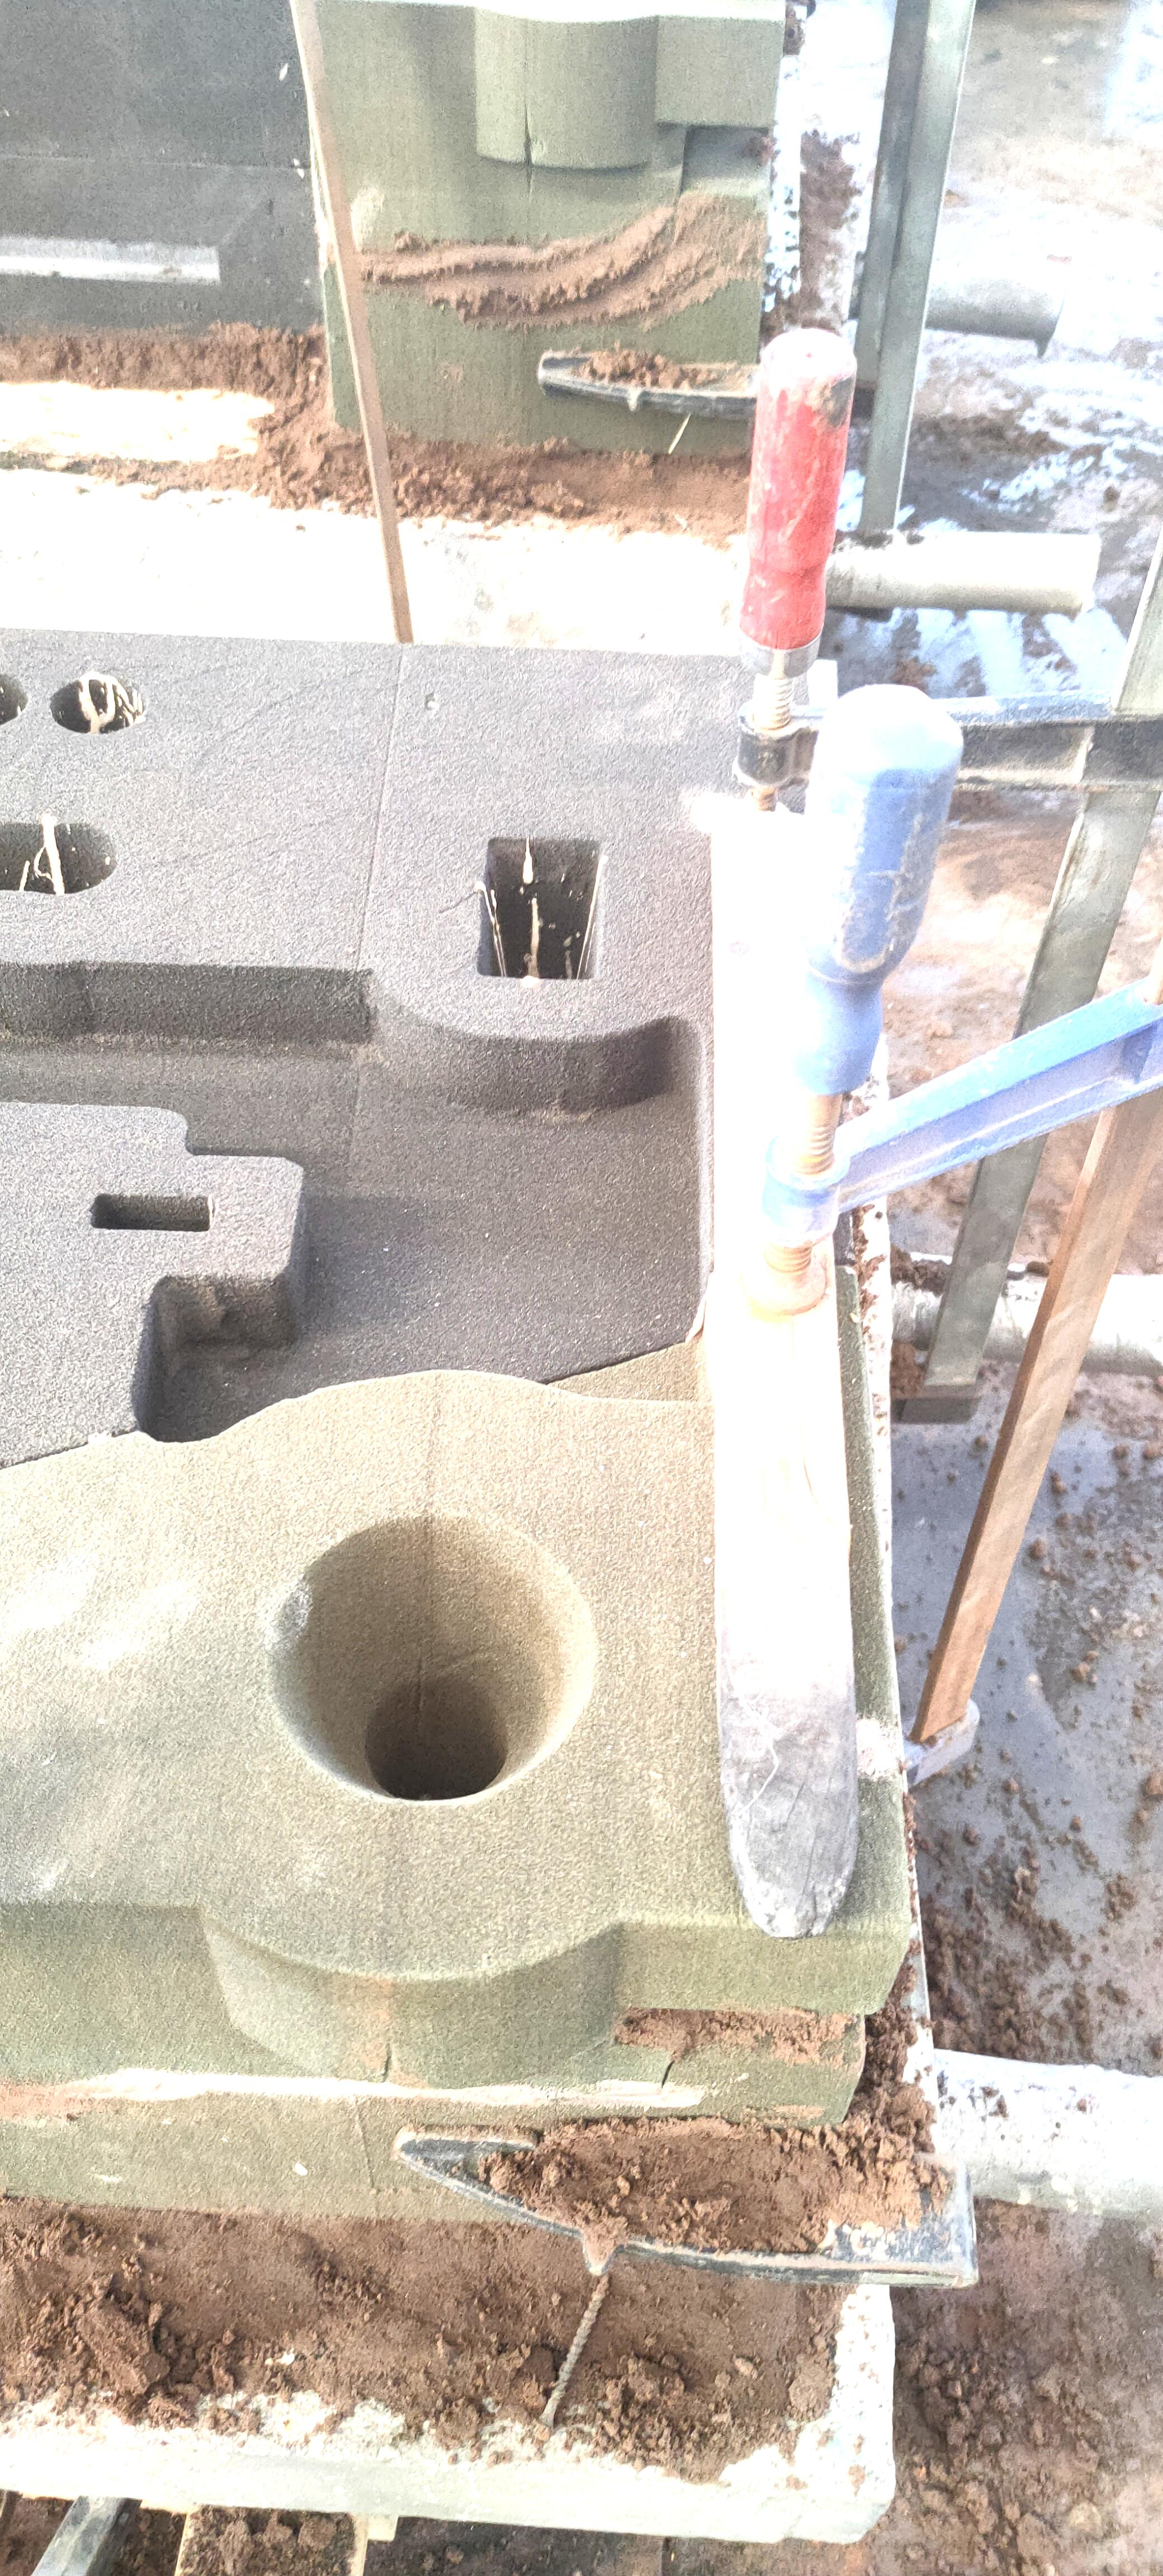pouring hole: (261, 1511, 598, 1809)
